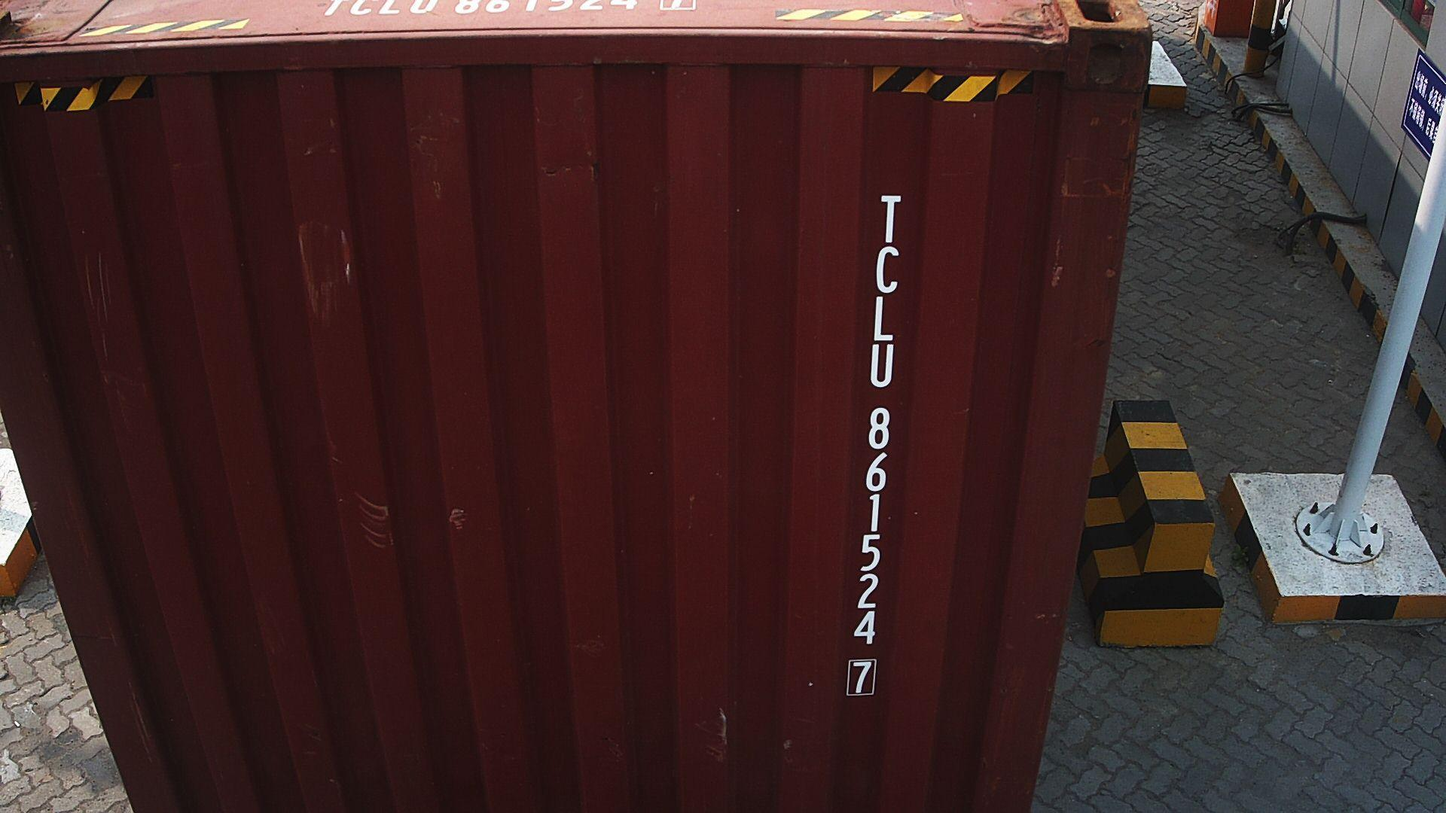container-numbers: (835, 189, 906, 703)
